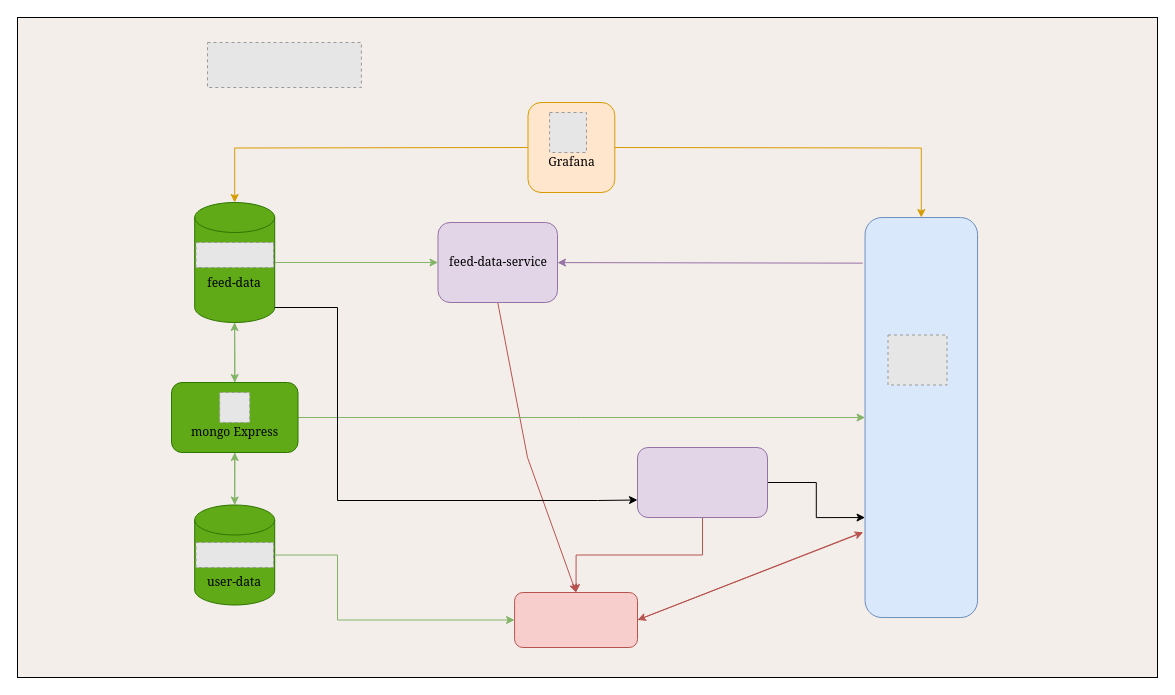
The diagram is 1175 pixels wide and 695 high, and some of its shapes have lost their labels. Grey dashed boxes stand in for pictures. The centre of each missing label's shape, as x and y in pixels:
"evaluation -service" belongs at pixel 702 482.
"Kong API gateway" belongs at pixel 921 417.
"user-data-service" belongs at pixel 576 620.
